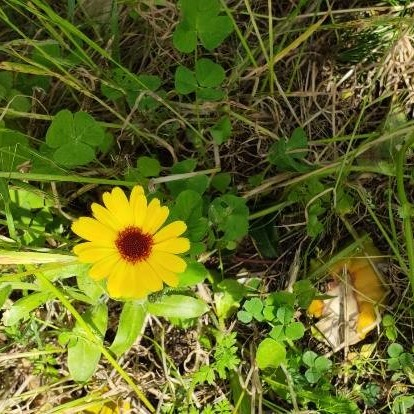obstacle: (31, 169, 246, 362)
